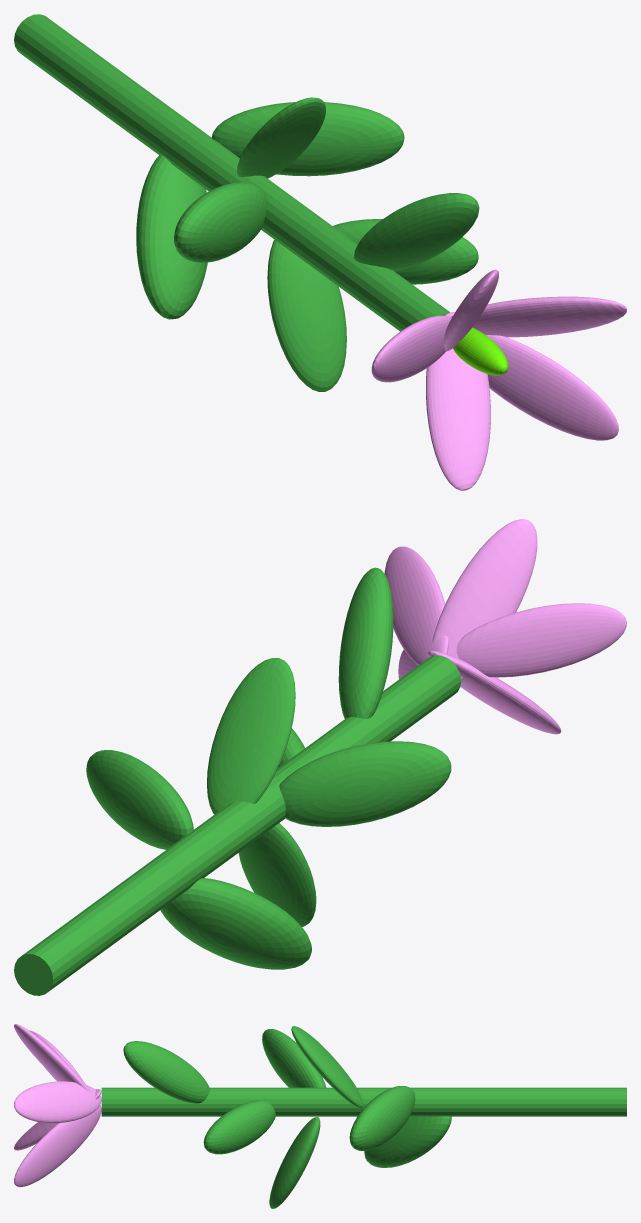
The model's file is tinker.obj.
The picture shows the model from 3 angles, top to bottom: view 1: azimuth 30°, elevation 25°; view 2: azimuth 150°, elevation 25°; view 3: azimuth 270°, elevation 25°; orthographic projection. The views are drawn at different scales.
Visible parts, largest first — view 1: group_0_4634441, group_0_16755711, group_0_7601933; view 2: group_0_4634441, group_0_16755711; view 3: group_0_4634441, group_0_16755711.
Boxes of the visible parts, x1,y1,x2,y2 form: group_0_4634441: [14, 14, 479, 391]; group_0_16755711: [371, 269, 626, 490]; group_0_7601933: [453, 327, 508, 375]; group_0_4634441: [14, 567, 461, 995]; group_0_16755711: [384, 519, 626, 734]; group_0_4634441: [101, 1026, 626, 1208]; group_0_16755711: [14, 1024, 101, 1187].
Size of the model in its own units: 30 by 27.27 by 84.
